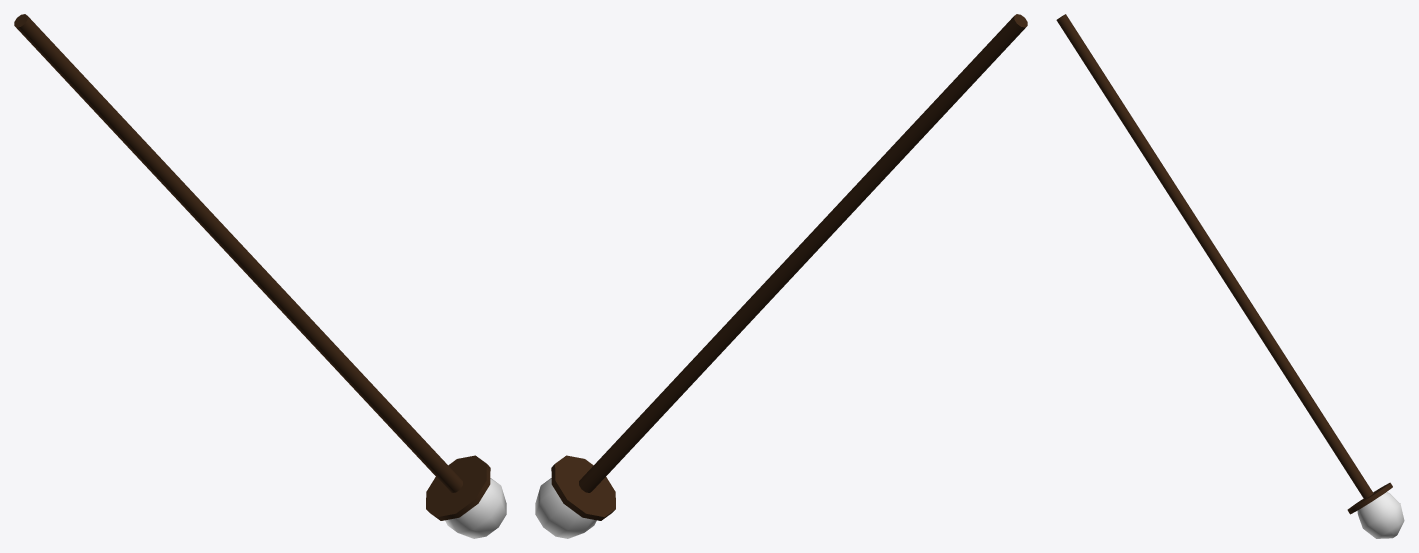
Rendered from mop.glb.
3 renders of one model, left to right at view 1: azimuth 30°, elevation 25°; view 2: azimuth 150°, elevation 25°; view 3: azimuth 330°, elevation 25°, orthographic. The views are drawn at different scales.
Parts seen in each view (by area): view 1: Mop; view 2: Mop; view 3: Mop.
Boxes of the visible parts, x1,y1,x2,y2 form: Mop: [14, 14, 506, 538]; Mop: [535, 14, 1027, 538]; Mop: [1056, 14, 1404, 538].
Bounding box in the file's own units: 0.9704 × 1.2 × 0.1264.
